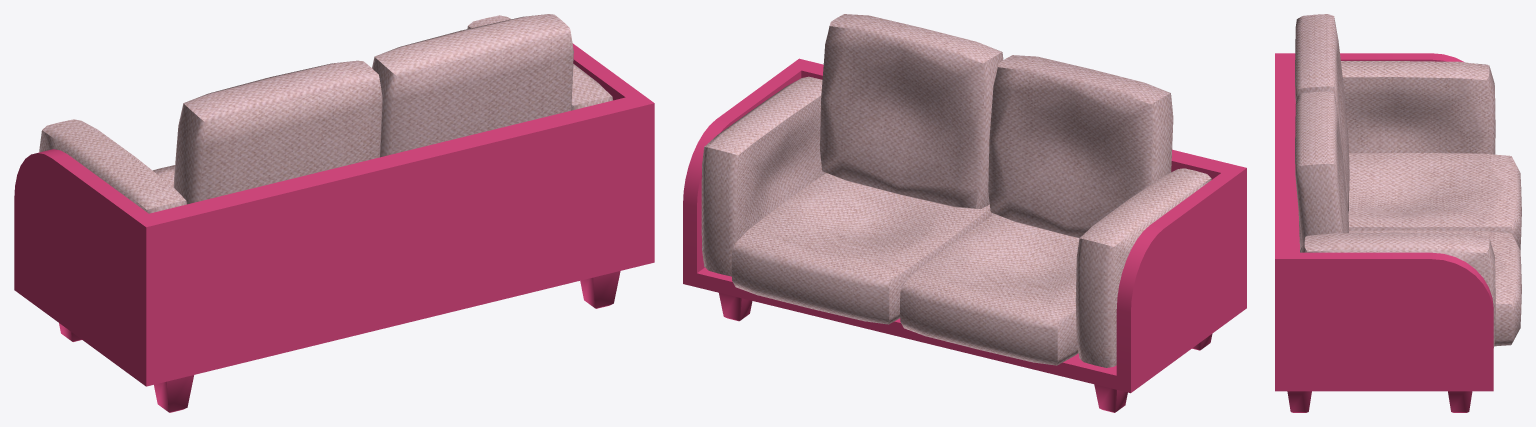
The model's file is furniture_seating_210070.glb.
The picture shows the model from 3 angles, left to right: view 1: azimuth 30°, elevation 25°; view 2: azimuth 150°, elevation 25°; view 3: azimuth 270°, elevation 25°; orthographic projection. The views are drawn at different scales.
Parts seen in each view (by area): view 1: furniture_seating_210070; view 2: furniture_seating_210070; view 3: furniture_seating_210070.
Part boxes in pixels (x1,y1,x2,y2): furniture_seating_210070: (14, 14, 654, 412); furniture_seating_210070: (683, 14, 1246, 412); furniture_seating_210070: (1275, 14, 1521, 412).
Size of the model in its own units: 1.61 by 0.8773 by 0.8179.
1 material, 1 textured.
